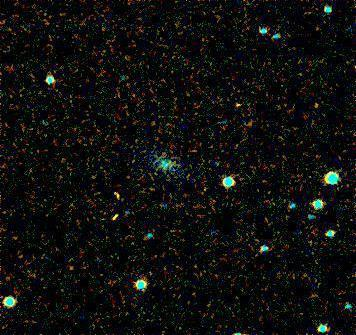star: (224, 93, 254, 123)
